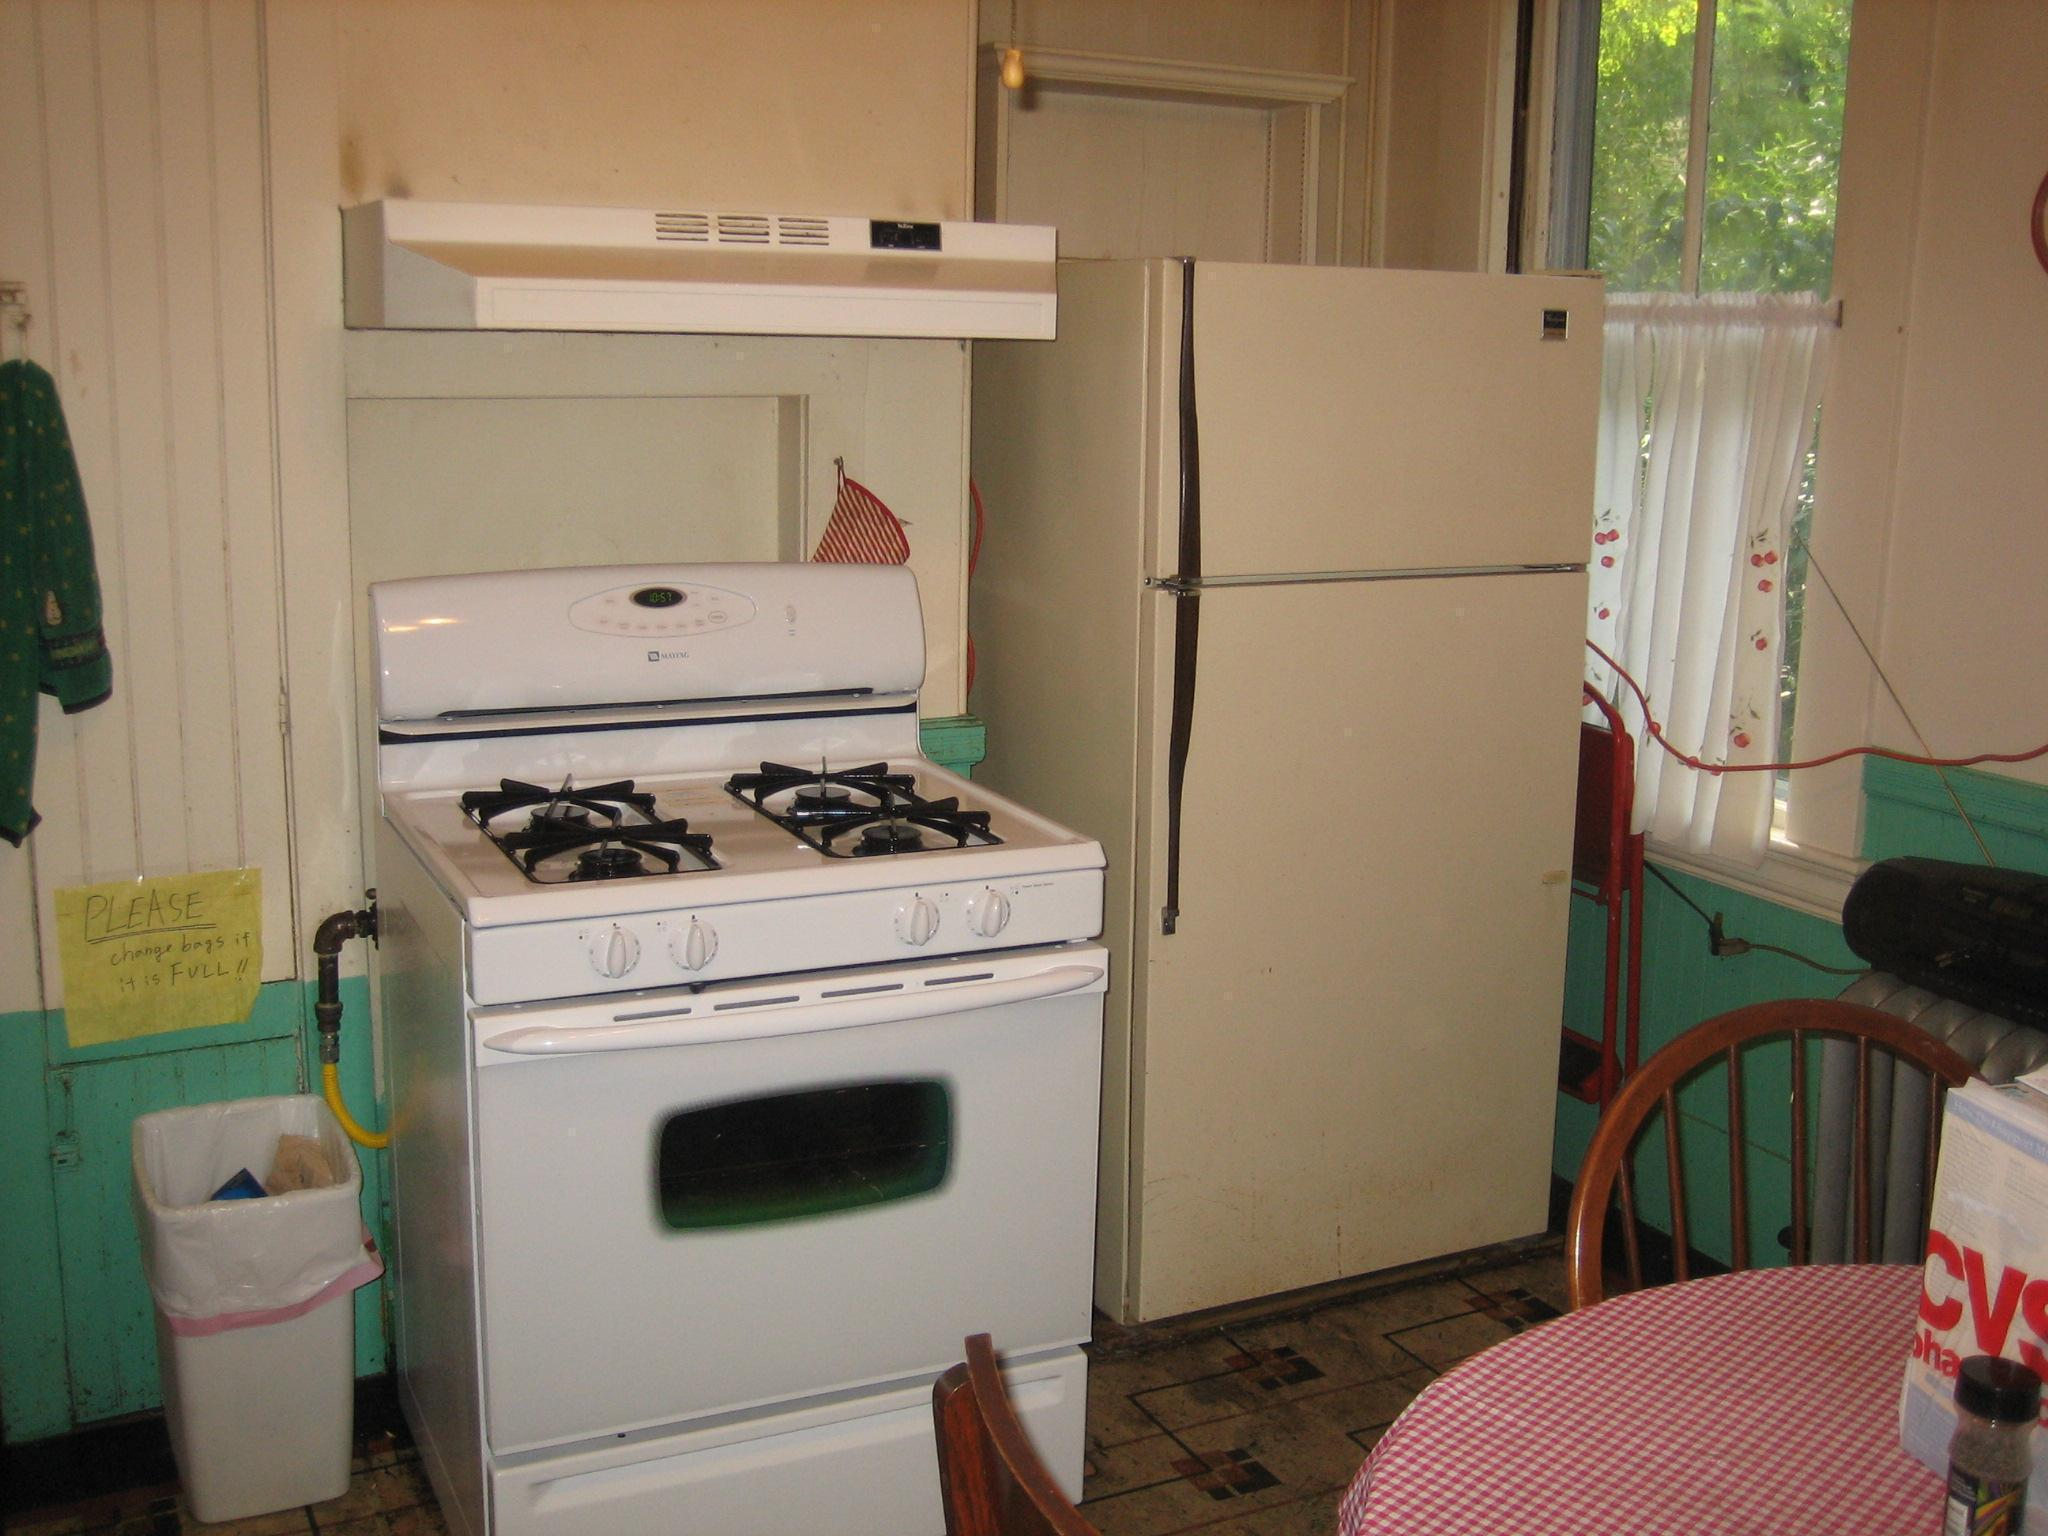Bote de Basura: (147, 1091, 366, 1518)
Electrodomestico: (400, 636, 1105, 1447), (1064, 245, 1558, 1271)
Ventana: (1571, 8, 1819, 850)
